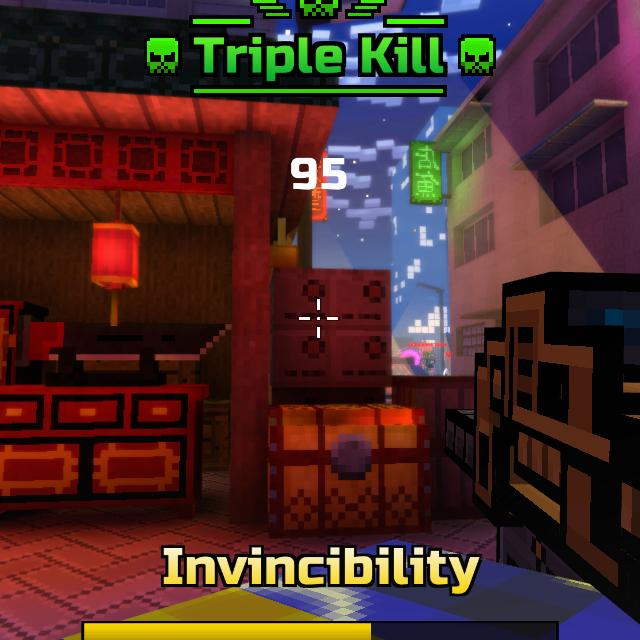Enemy: (420, 351, 436, 374)
